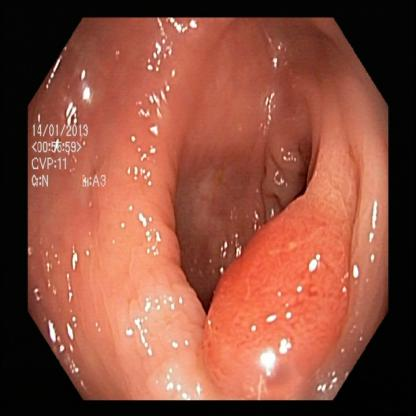Labels: (27, 89, 128, 220)
Polyps: (210, 245, 346, 397)
